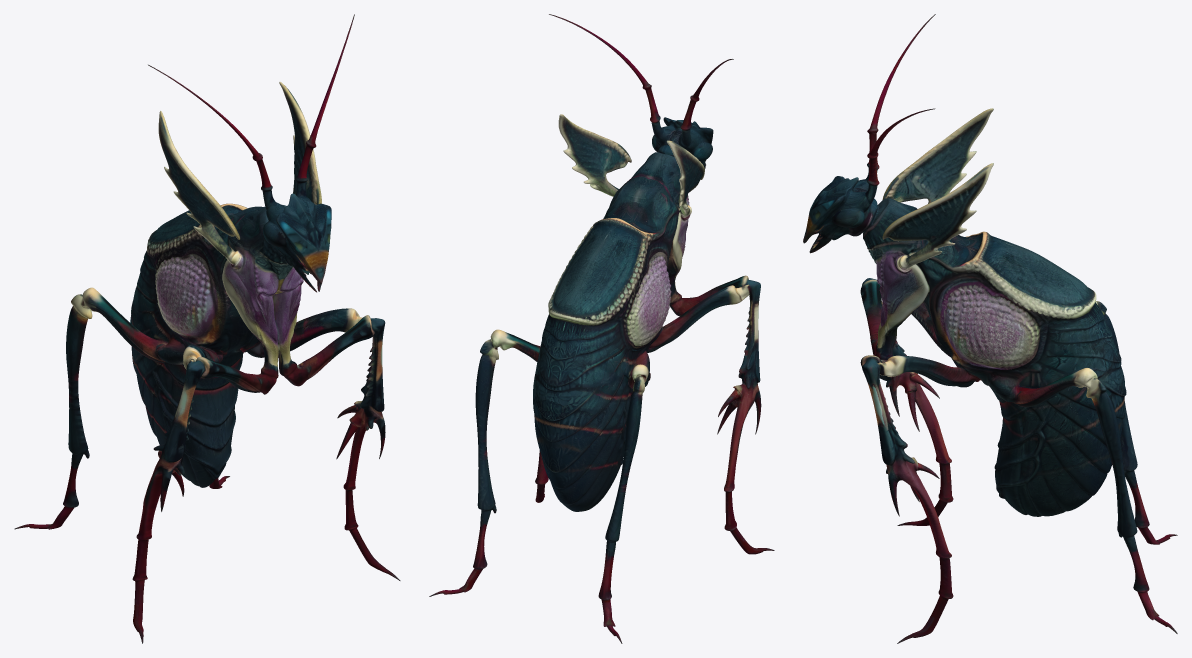
Rendered from precentor-meshy-v1-master.glb.
The picture shows the model from 3 angles, left to right: view 1: azimuth 30°, elevation 25°; view 2: azimuth 150°, elevation 25°; view 3: azimuth 270°, elevation 25°; orthographic projection. The views are drawn at different scales.
Bounding box in the file's own units: 0.918 × 1.9 × 1.23.
Materials: 1 (1 with a texture image).
